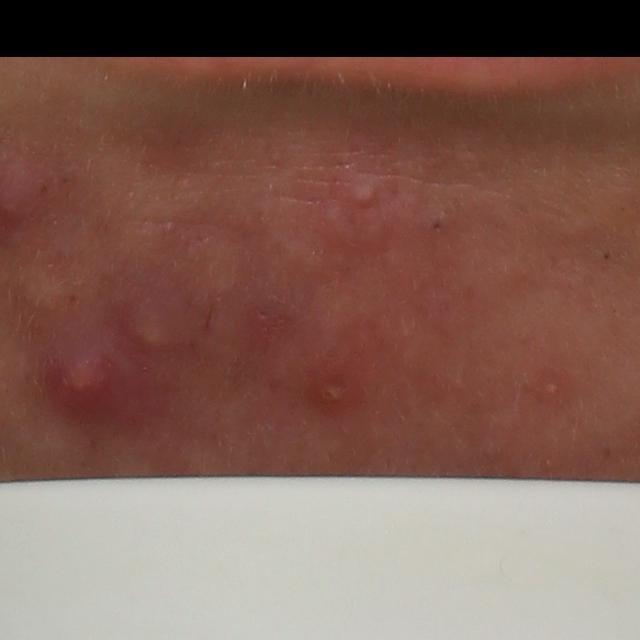papule: (177, 222, 241, 307), (49, 347, 120, 411), (117, 294, 175, 352), (345, 174, 380, 212)
pustule: (313, 369, 358, 412)
